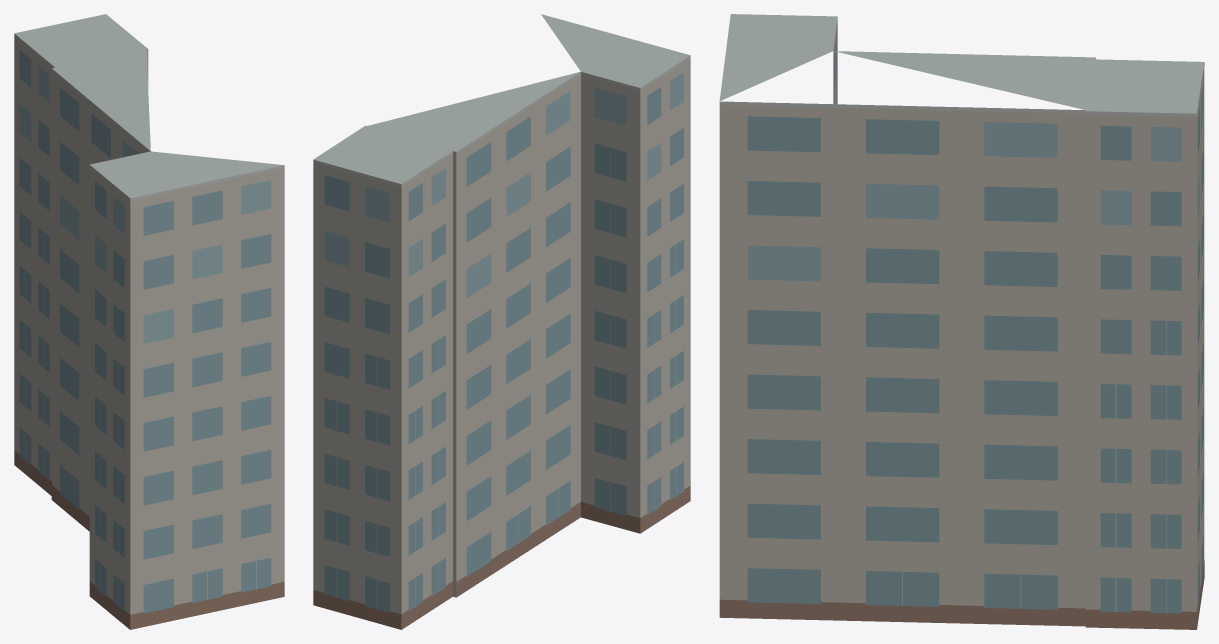
Rendered from survey-upis-32950005.glb.
3 renders of one model, left to right at view 1: azimuth 30°, elevation 25°; view 2: azimuth 150°, elevation 25°; view 3: azimuth 270°, elevation 25°, orthographic. The views are drawn at different scales.
Parts seen in each view (by area): view 1: survey-upis-32950005.tmp; view 2: survey-upis-32950005.tmp; view 3: survey-upis-32950005.tmp.
Part boxes in pixels (bbox=[...]): survey-upis-32950005.tmp: bbox=[14, 14, 284, 629]; survey-upis-32950005.tmp: bbox=[313, 14, 690, 629]; survey-upis-32950005.tmp: bbox=[719, 14, 1204, 629].
Size of the model in its own units: 14.95 by 36.1 by 30.74.
